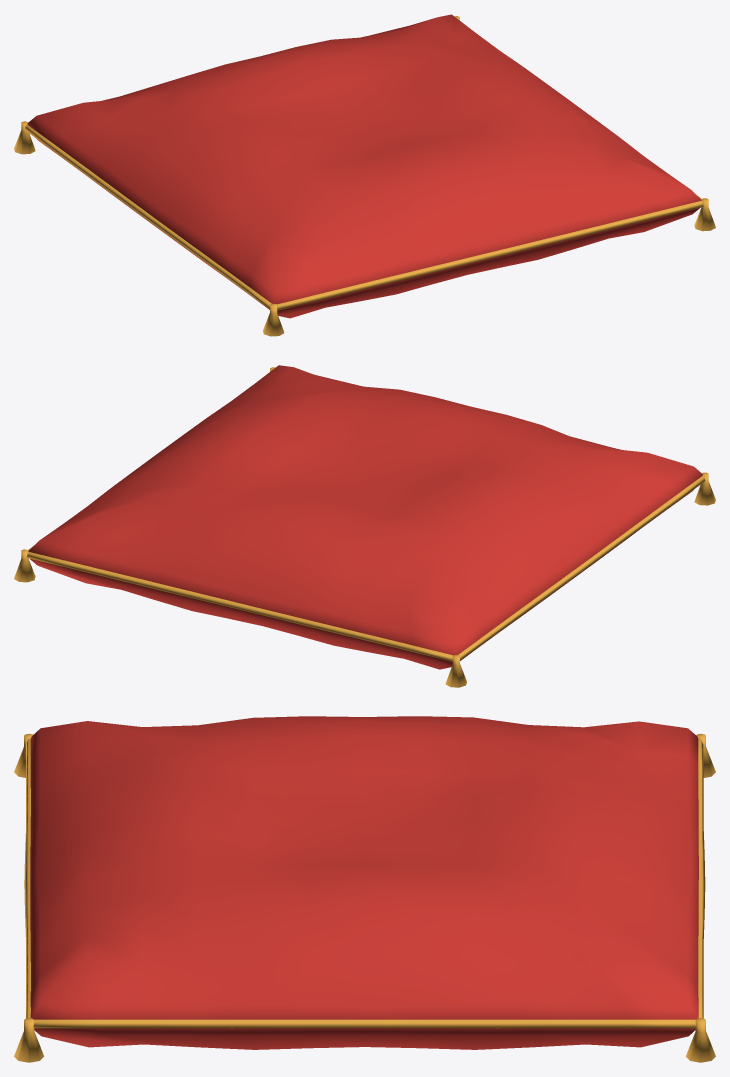
Rendered from GloriousPillow.fbx.
3 views of the same model, one above another, from view 1: azimuth 30°, elevation 25°; view 2: azimuth 150°, elevation 25°; view 3: azimuth 270°, elevation 25° (orthographic). The views are drawn at different scales.
Parts seen in each view (by area): view 1: Cube.004; view 2: Cube.004; view 3: Cube.004.
Part boxes in pixels (x1,y1,x2,y2): Cube.004: (14, 14, 715, 336); Cube.004: (14, 365, 715, 687); Cube.004: (14, 716, 715, 1062).
Size of the model in its own units: 255 by 56.48 by 254.
